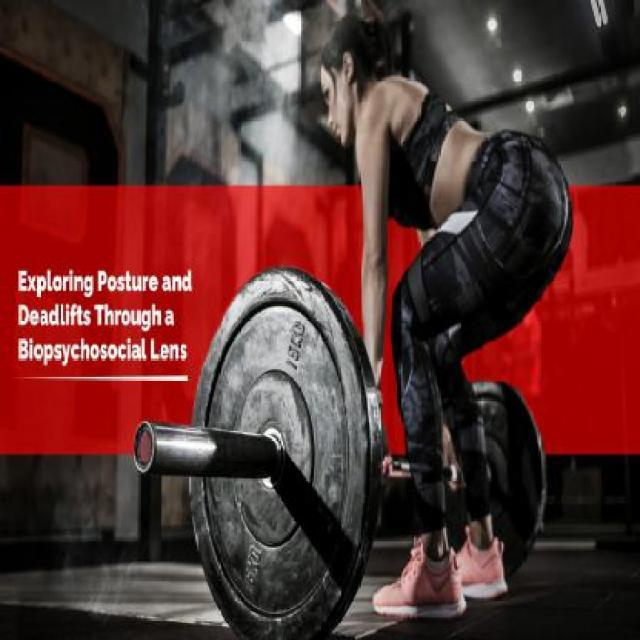Barbell: (133, 418, 159, 478)
